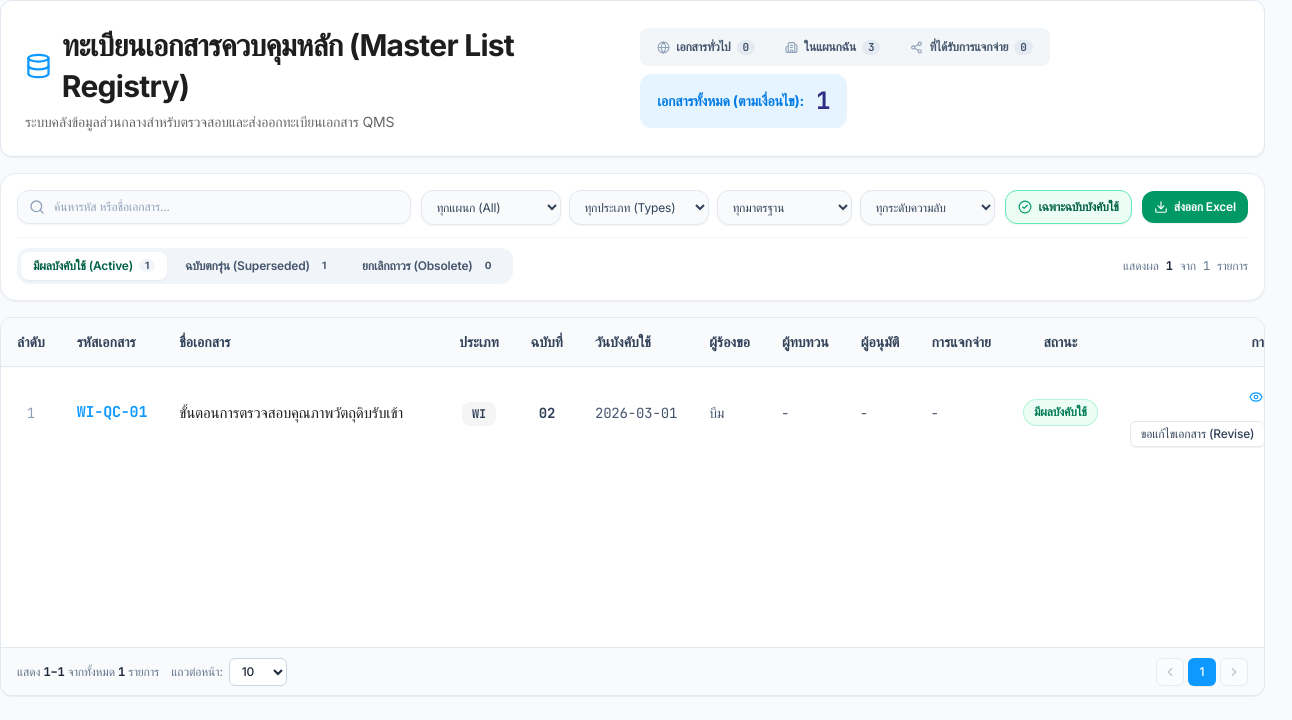
Remove "All Records" Tab & Enforce Atomic Single-Active Revision Status › 3. Older revisions (WI-QC-01 Rev.00) reside in "ฉบับตกรุ่น (Superseded)" tab
Note: Click on Superseded Tab
Click the button "ฉบับตกรุ่น (Superseded) 1".
click(259, 266)  # box [173,252,344,280]
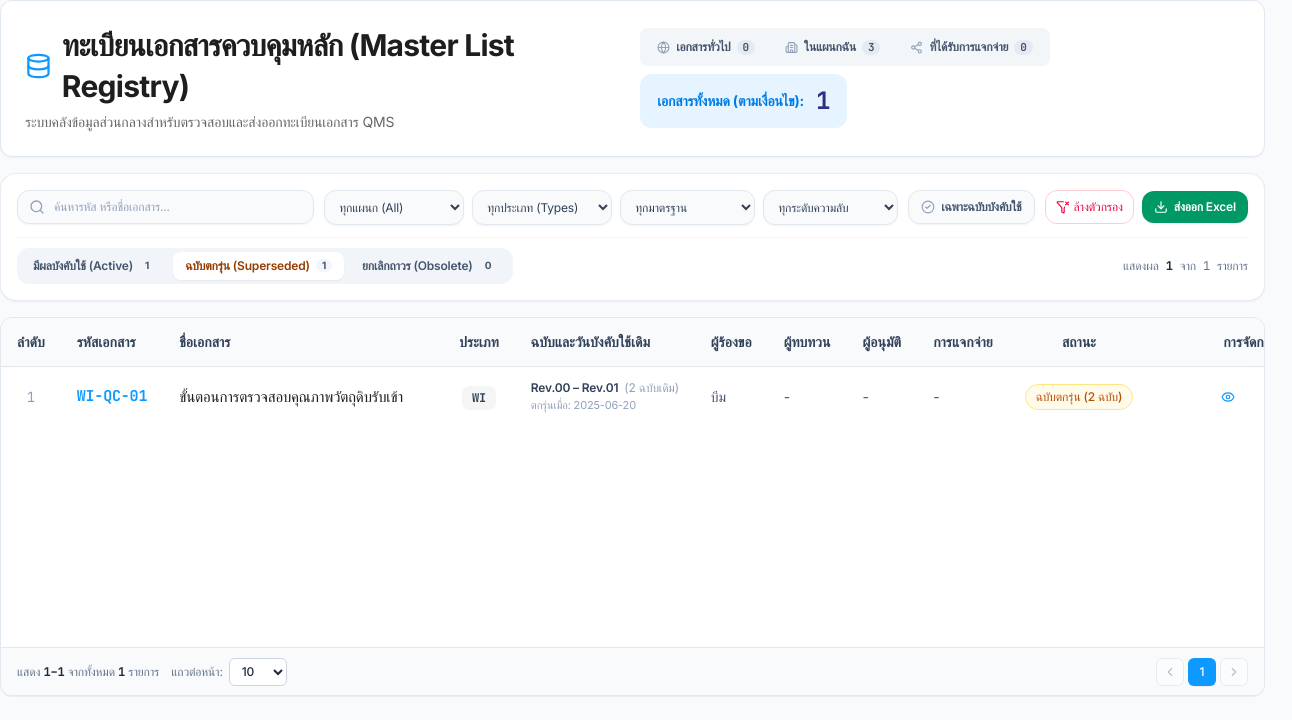
Expected: the text "WI-QC-01" is shown, [77,386,147,407]
Expected: the text "Rev.00 – Rev.01(2 ฉบับเดิม)" is shown, [531,380,679,396]
